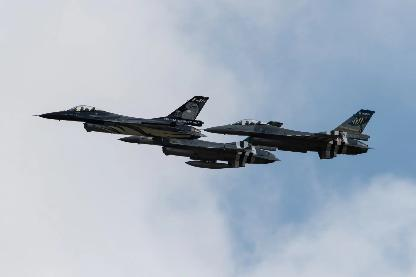F14: (197, 109, 375, 158), (31, 95, 208, 142), (112, 121, 282, 168)
